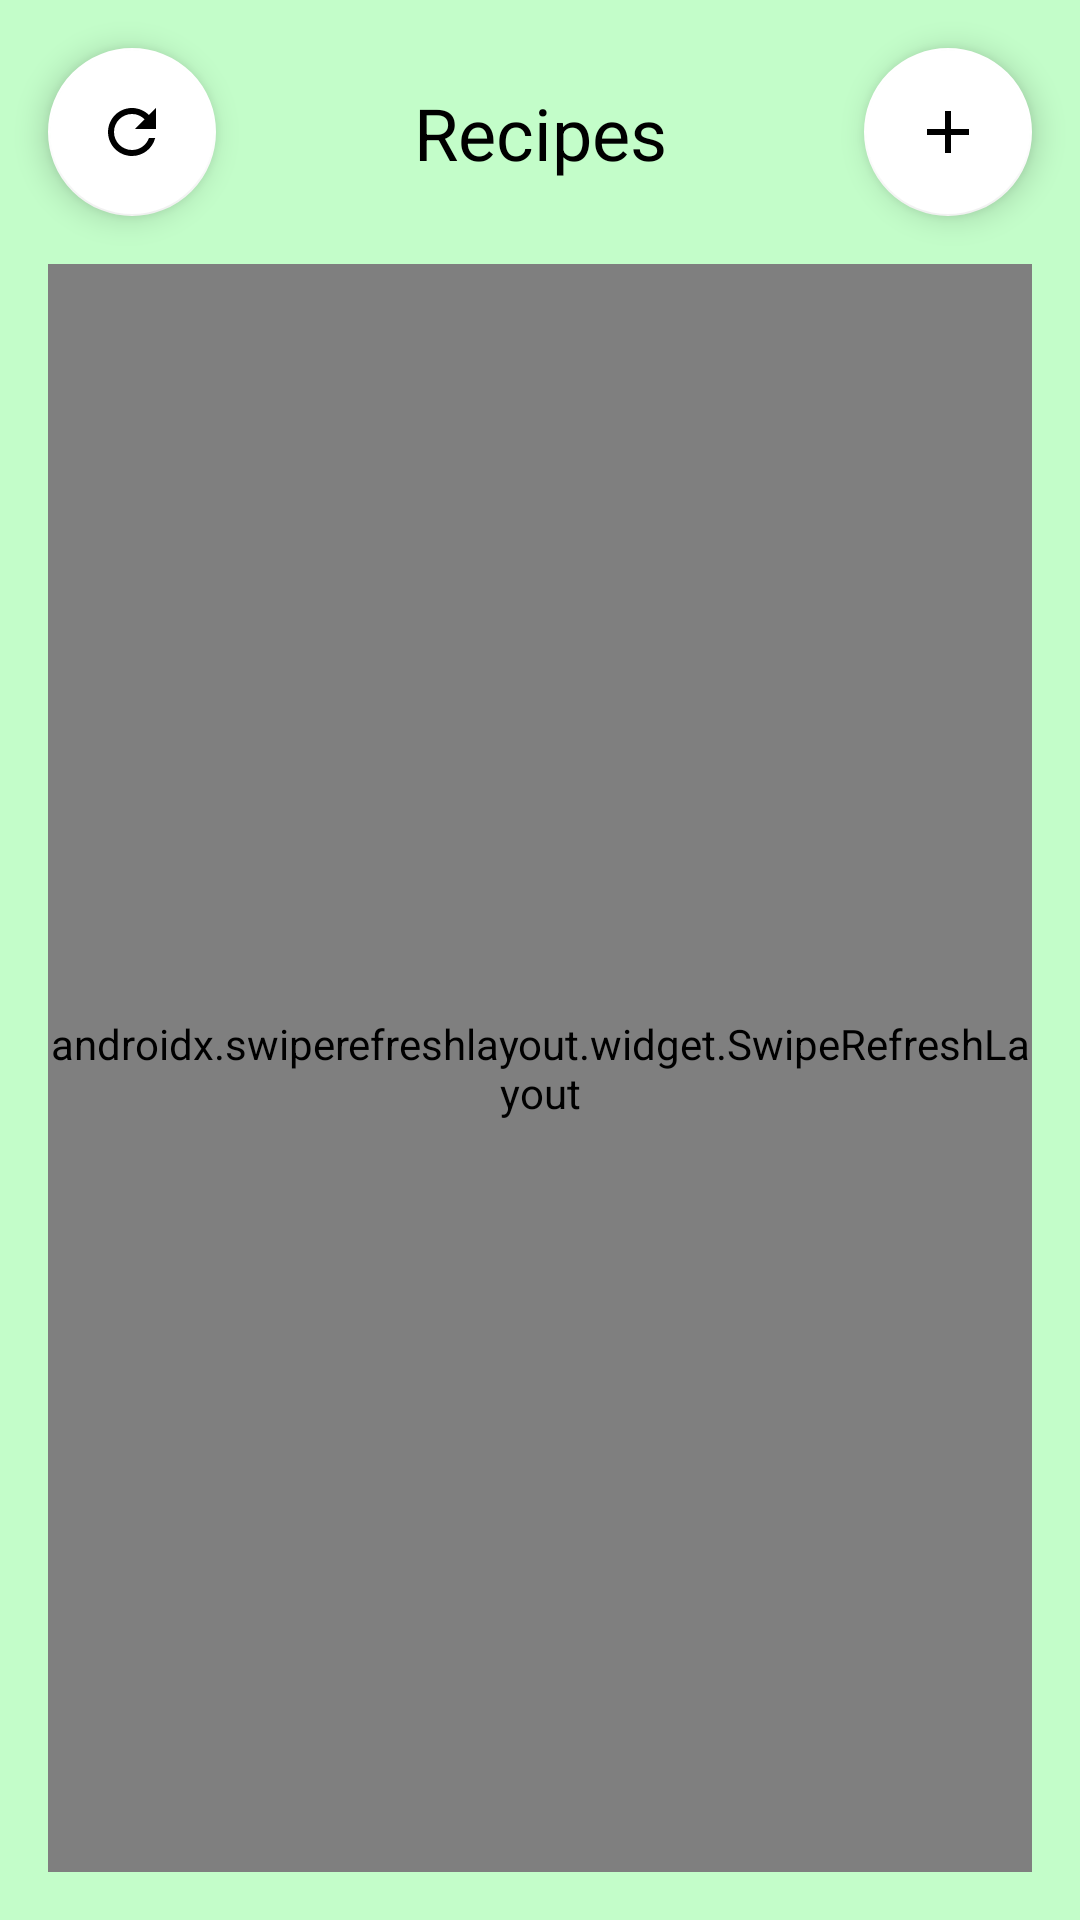

Where icons sit on this 1080 × 1920 app screen, as (x1, y1, x2, y2):
Add recipe: (864, 48, 1032, 216)
